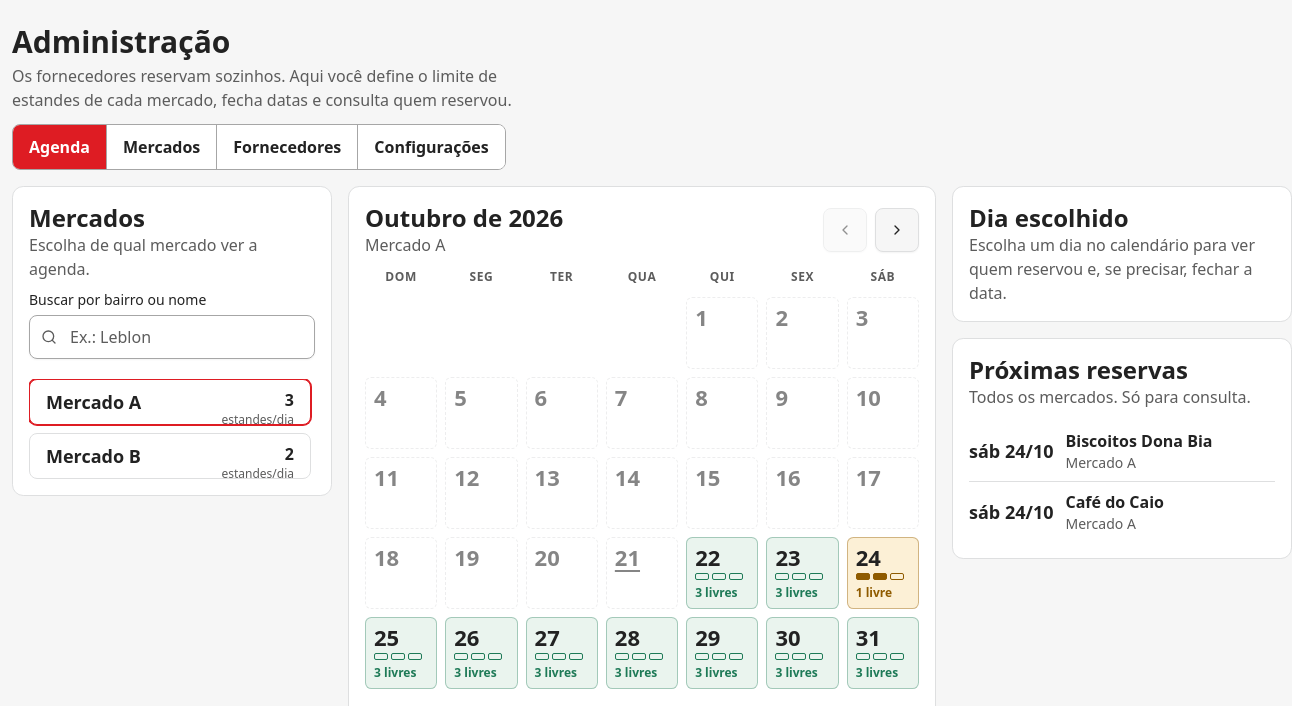
Test: Agenda › escolher um dia mostra quem reservou, sem calendário de "sua reserva"
Step 1. Click the button with aria-label "Sábado, 24 de outubro: 1 vaga livre de 3" → x=883, y=573, box [847,537,919,609]
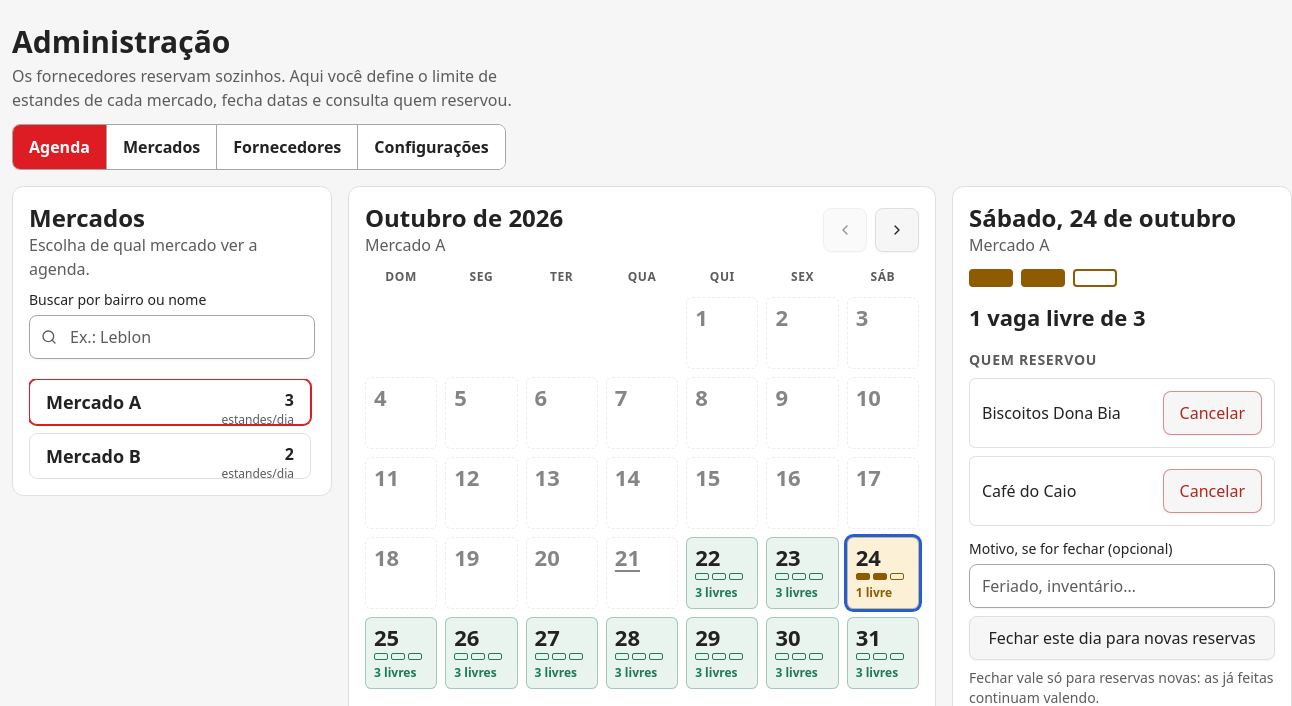
Result: the text "Biscoitos Dona Bia" is shown at [982,401,1121,425]
Result: the text "Café do Caio" is shown at [982,479,1076,503]
Result: the text "1 vaga livre de 3" is shown at [969,302,1146,332]
